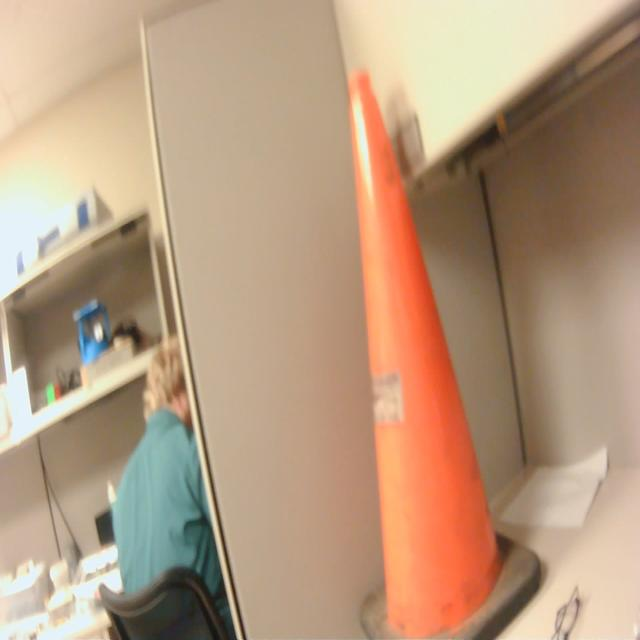traffic cone: (343, 64, 547, 640)
